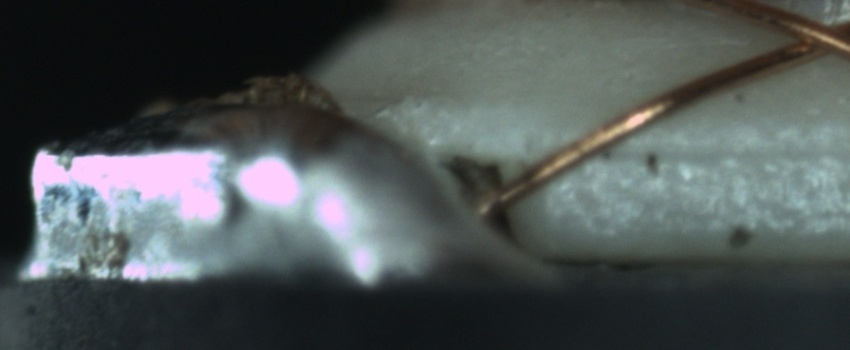CL: (763, 5, 847, 67)
DL: (577, 115, 842, 184)
